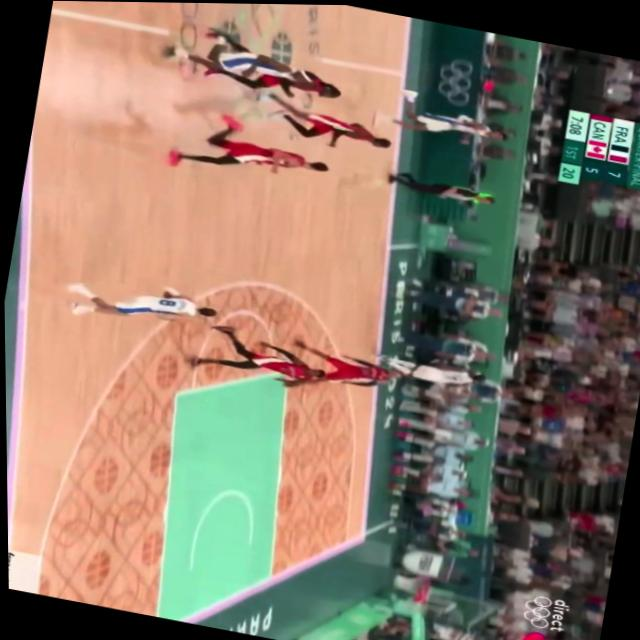ball_handler: (62, 268, 218, 334)
